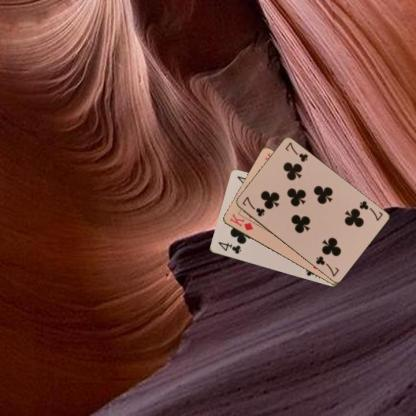4c: (216, 240, 243, 256)
7c: (356, 198, 384, 222), (239, 194, 266, 218)
Kd: (227, 211, 254, 232)
